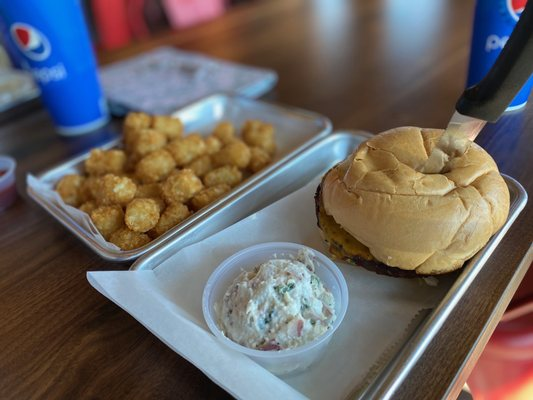pizza: (0, 0, 112, 139)
sandwich: (442, 0, 533, 144)
sushi: (202, 242, 351, 374)
